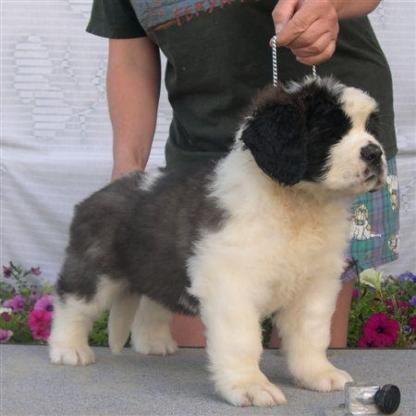Saint_Bernard: (45, 73, 389, 407)
